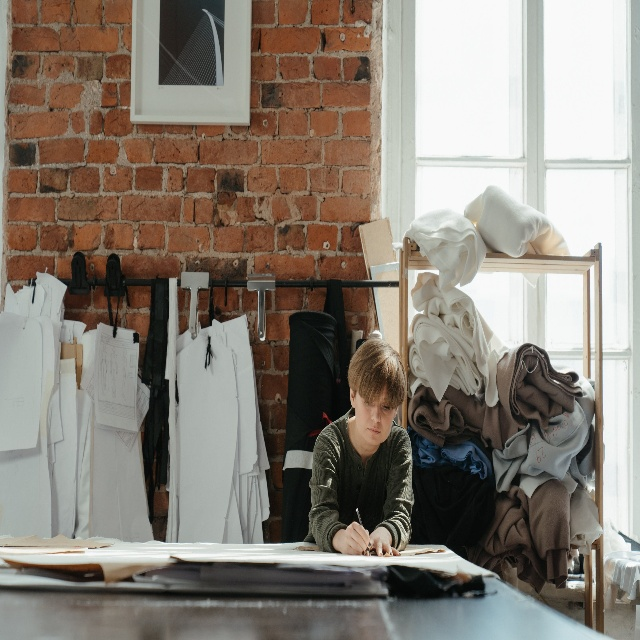Sin_guantes: (364, 527, 401, 557), (340, 521, 371, 555)
